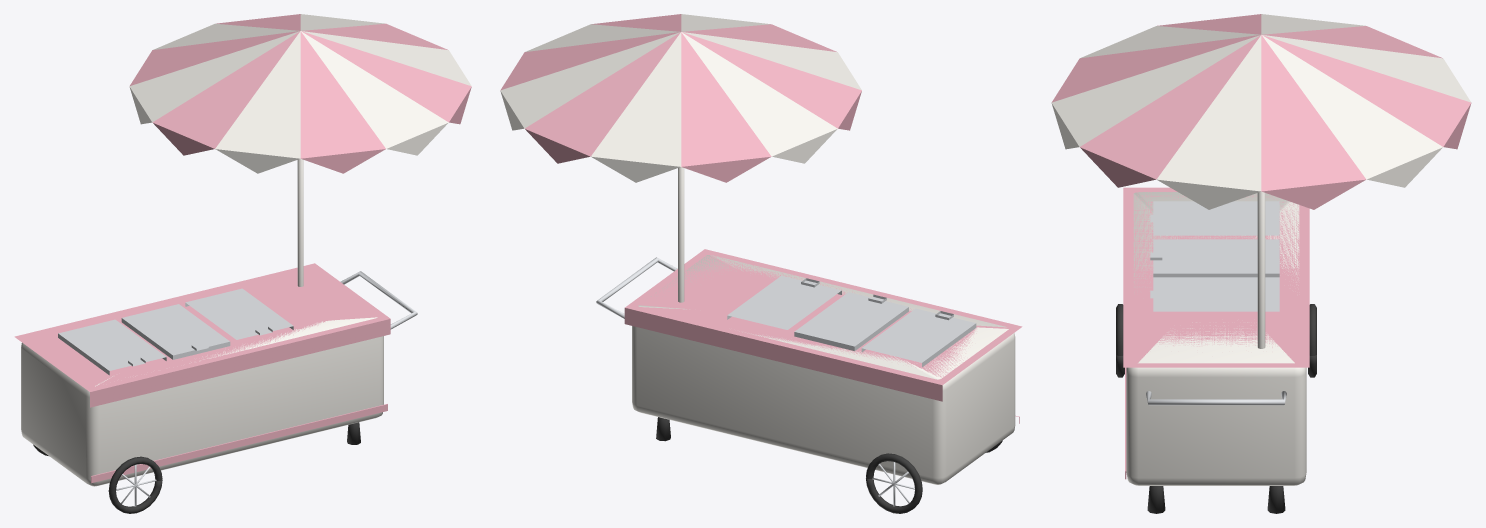
The model's file is ice_cream_cart.glb.
The picture shows the model from 3 angles, left to right: view 1: azimuth 30°, elevation 25°; view 2: azimuth 150°, elevation 25°; view 3: azimuth 270°, elevation 25°; orthographic projection. The views are drawn at different scales.
Parts seen in each view (by area): view 1: IceCreamCart; view 2: IceCreamCart; view 3: IceCreamCart.
Part boxes in pixels (bbox=[...]): IceCreamCart: bbox=[14, 14, 471, 513]; IceCreamCart: bbox=[500, 14, 1022, 513]; IceCreamCart: bbox=[1051, 14, 1471, 513].
Bounding box in the file's own units: 3.92 × 3.48 × 2.8.
